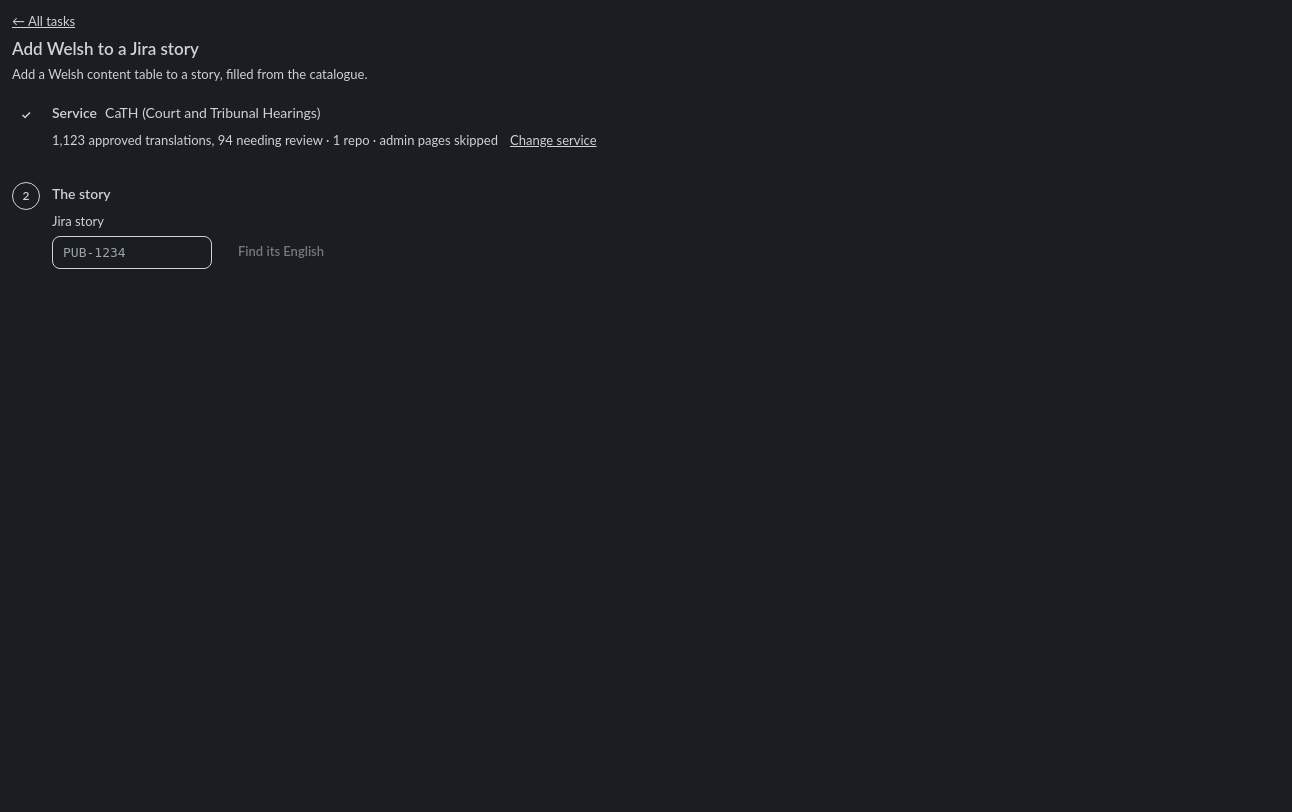
Test: WelshPage › should refuse to write a story table whose Welsh cannot be traced
The width and height of the screenshot is (1292, 812).
Check: the text "1,123 approved translations, 94 needing review · 1 repo · admin pages skipped" is shown, box x1=52 y1=130 x2=498 y2=150
Type "PUB-1" into the field labelled "Jira story". click: (132, 252)
box: x1=52 y1=236 x2=212 y2=269
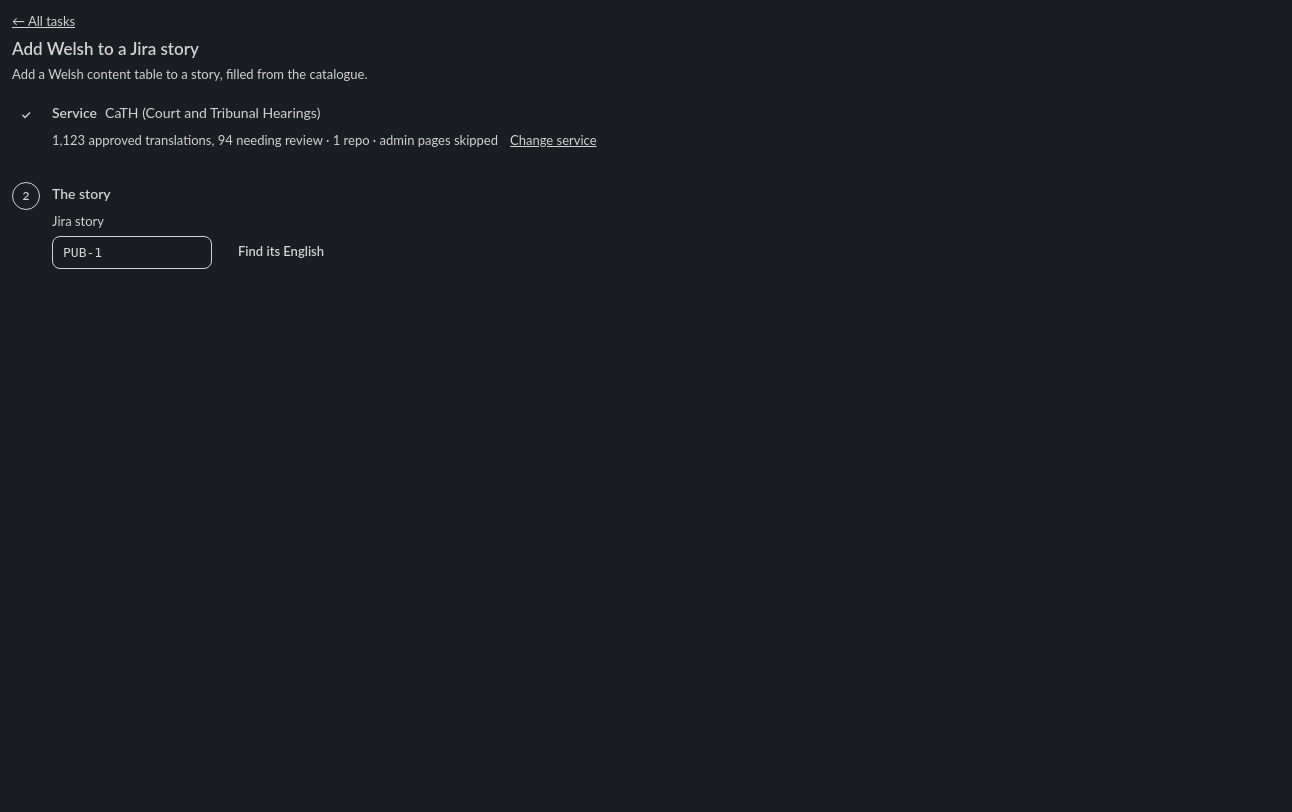
Click the button "Find its English". click: (281, 251)
box: x1=224 y1=234 x2=338 y2=269
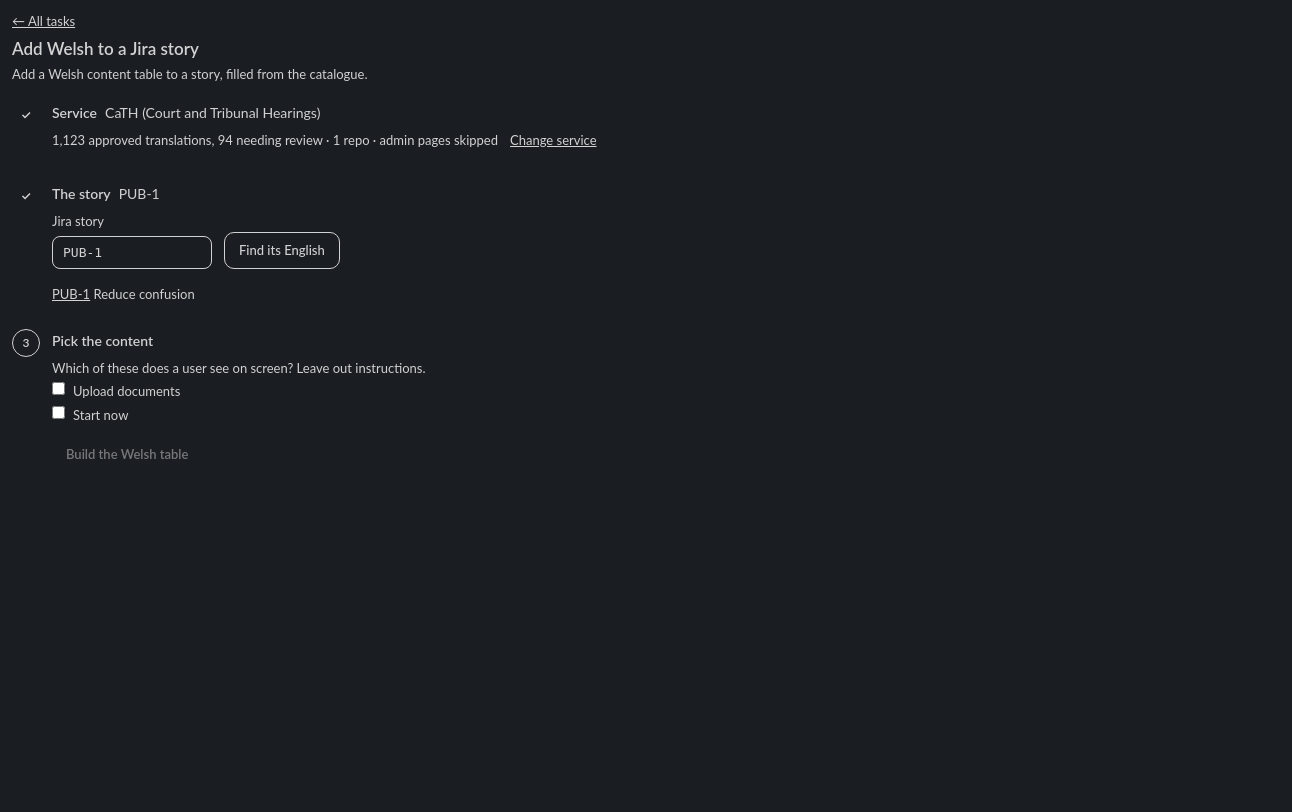
Click the checkbox labelled "Start now". click: (58, 412)
box: x1=52 y1=406 x2=65 y2=418
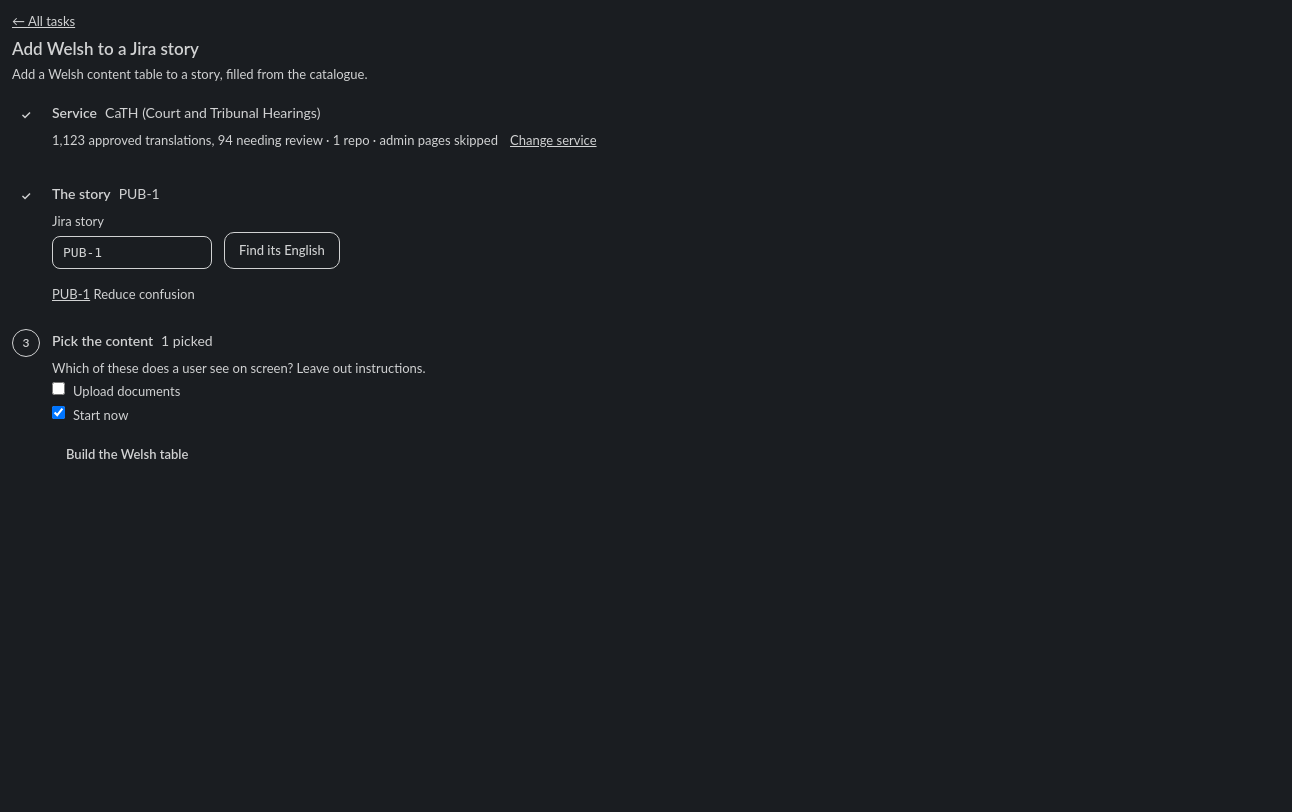
Click the button "Build the Welsh table". click: (127, 455)
box: x1=52 y1=437 x2=202 y2=472
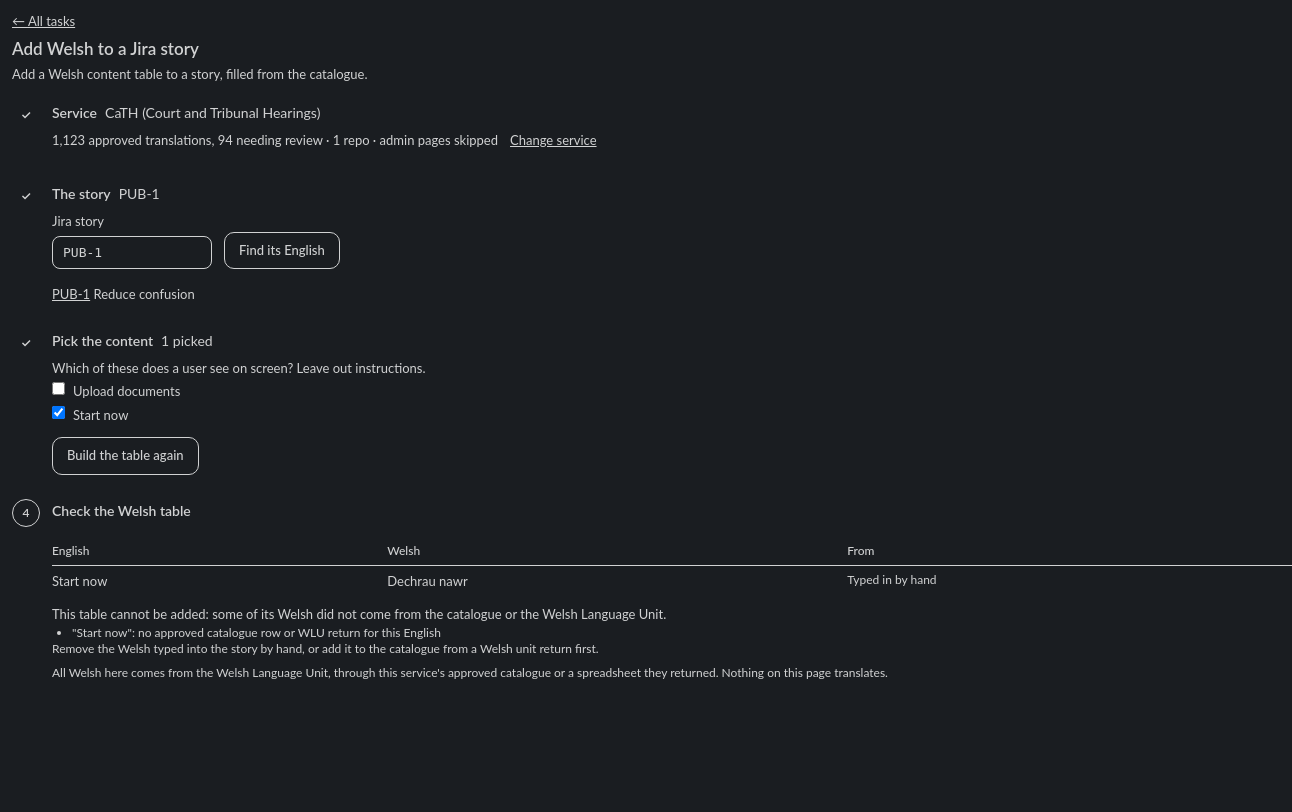
Check: the text "This table cannot be added" is shown, box x1=52 y1=606 x2=666 y2=622
